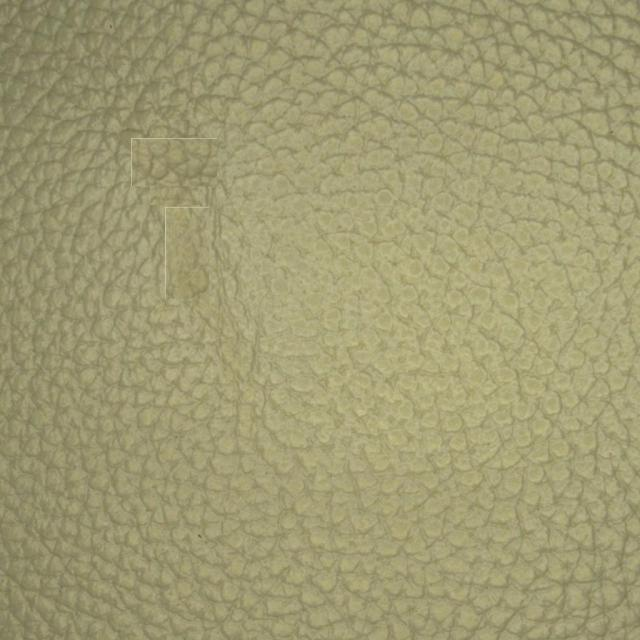Healed Injury: (102, 98, 254, 342)
